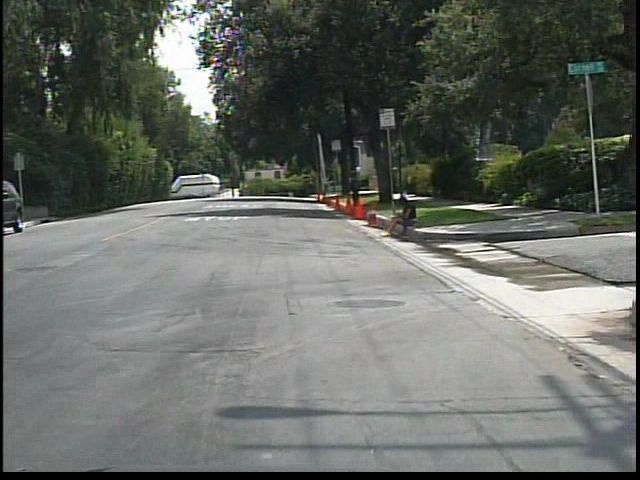person: (380, 191, 427, 242)
